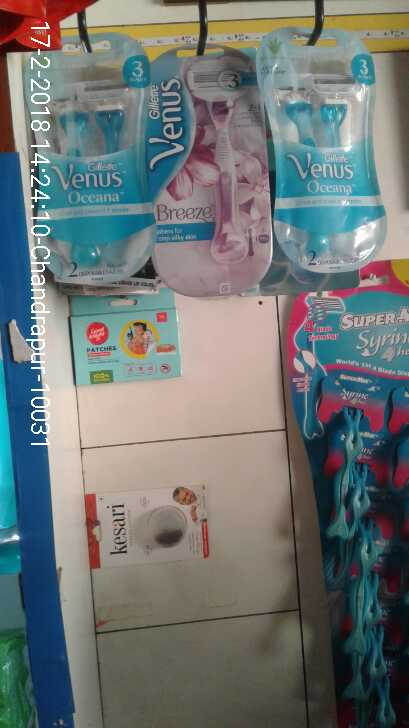venus: (255, 23, 400, 272), (23, 48, 153, 273), (158, 47, 275, 295)
